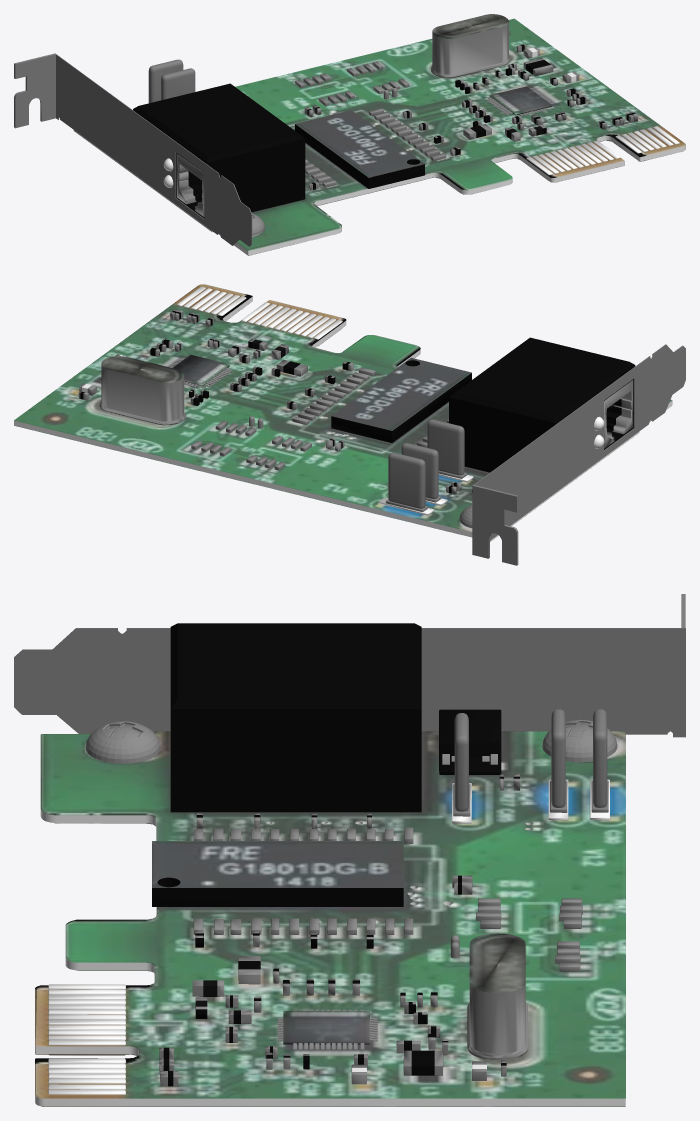
The model's file is dev-nic_lod1.glb.
3 views of the same model, one above another, from view 1: azimuth 30°, elevation 25°; view 2: azimuth 150°, elevation 25°; view 3: azimuth 270°, elevation 25° (orthographic). The views are drawn at different scales.
Parts seen in each view (by area): view 1: body; view 2: body; view 3: body.
Part boxes in pixels (bbox=[...]): body: bbox=[14, 14, 685, 255]; body: bbox=[14, 284, 685, 565]; body: bbox=[14, 594, 685, 1106].
Bounding box in the file's own units: 0.12 × 0.0168 × 0.0848.
Materials: 7 (1 with a texture image).
